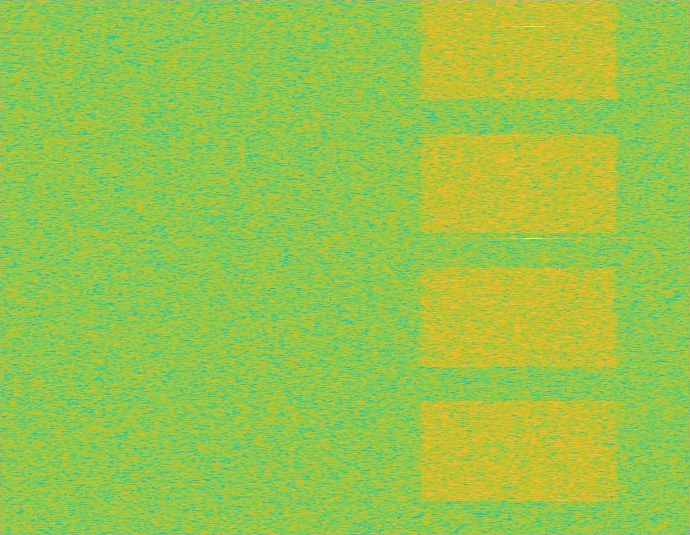5G: (415, 0, 622, 534)
Radar: (527, 0, 541, 534)
